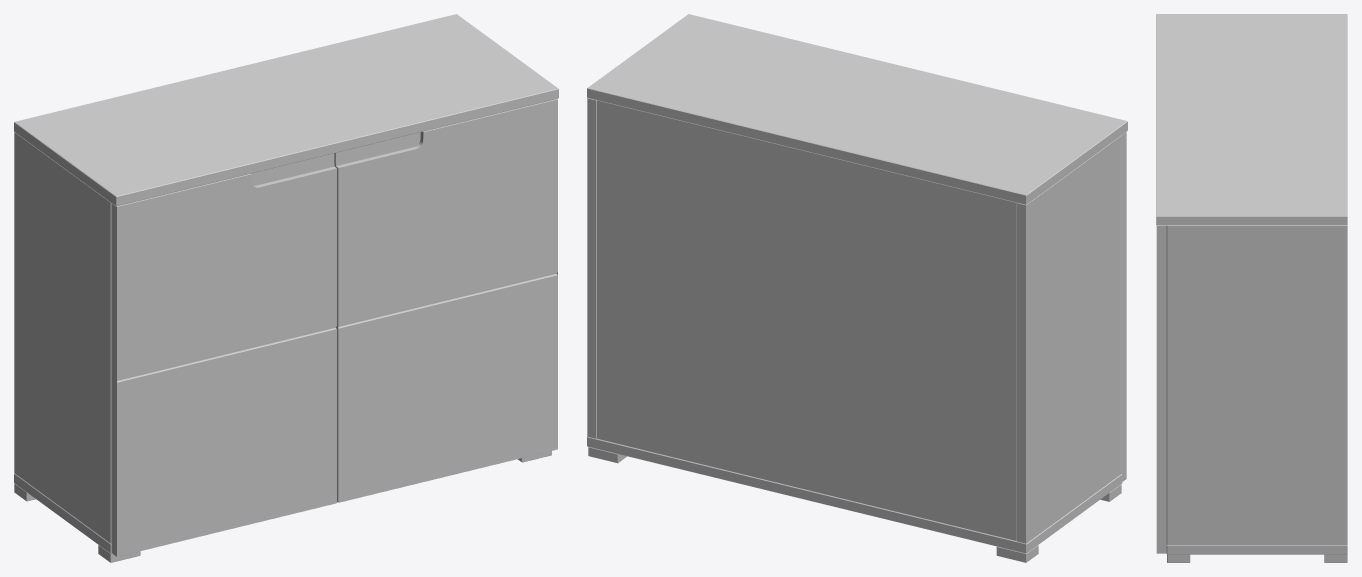
Rendered from appliance_B07JGXXK33.glb.
The picture shows the model from 3 angles, left to right: view 1: azimuth 30°, elevation 25°; view 2: azimuth 150°, elevation 25°; view 3: azimuth 270°, elevation 25°; orthographic projection. The views are drawn at different scales.
Visible parts, largest first — view 1: RootNode; view 2: RootNode; view 3: RootNode.
Boxes of the visible parts, box(x1,y1,x2,y2) form: RootNode: box(14, 14, 558, 562); RootNode: box(587, 14, 1127, 562); RootNode: box(1156, 14, 1347, 562).
Size of the model in its own units: 1 by 0.8 by 0.4.
1 material, 1 textured.
